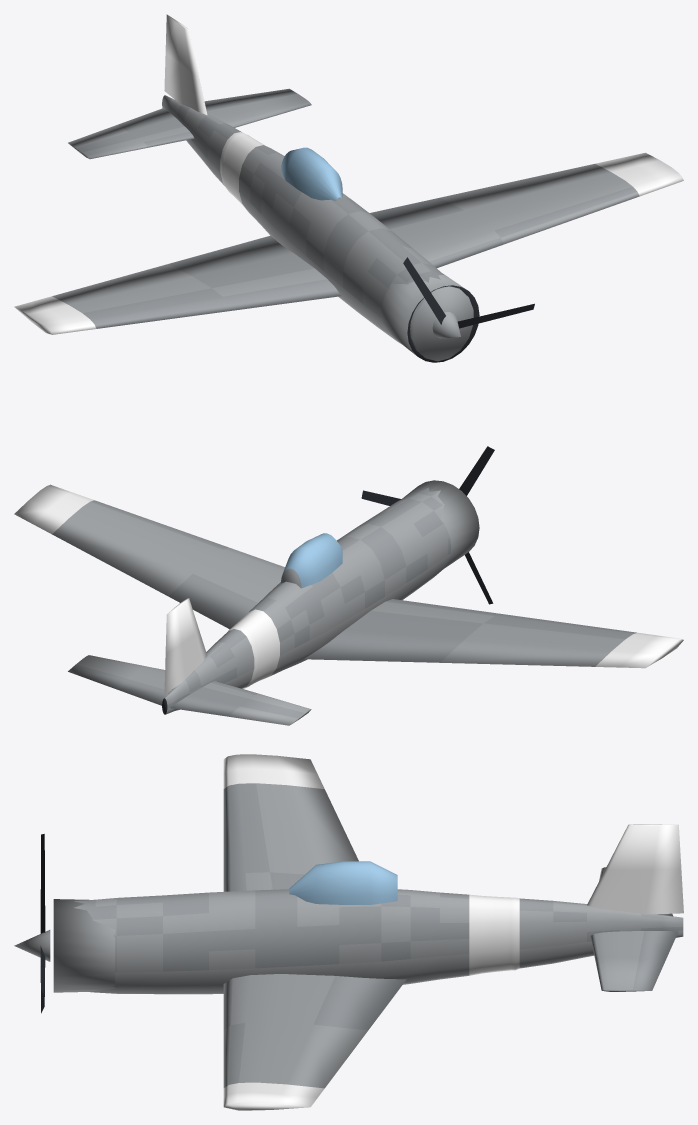
3 views of the same model, one above another, from view 1: azimuth 30°, elevation 25°; view 2: azimuth 150°, elevation 25°; view 3: azimuth 270°, elevation 25° (orthographic). The views are drawn at different scales.
Parts seen in each view (by area): view 1: body, prop; view 2: body, prop; view 3: body, prop.
Part boxes in pixels (x1,y1,x2,y2): body: (14, 14, 683, 362); prop: (403, 257, 534, 338); body: (14, 480, 683, 725); prop: (361, 446, 494, 604); body: (53, 754, 683, 1110); prop: (14, 834, 50, 1013).
Bounding box in the file's own units: 11.38 × 3.22 × 9.26.
